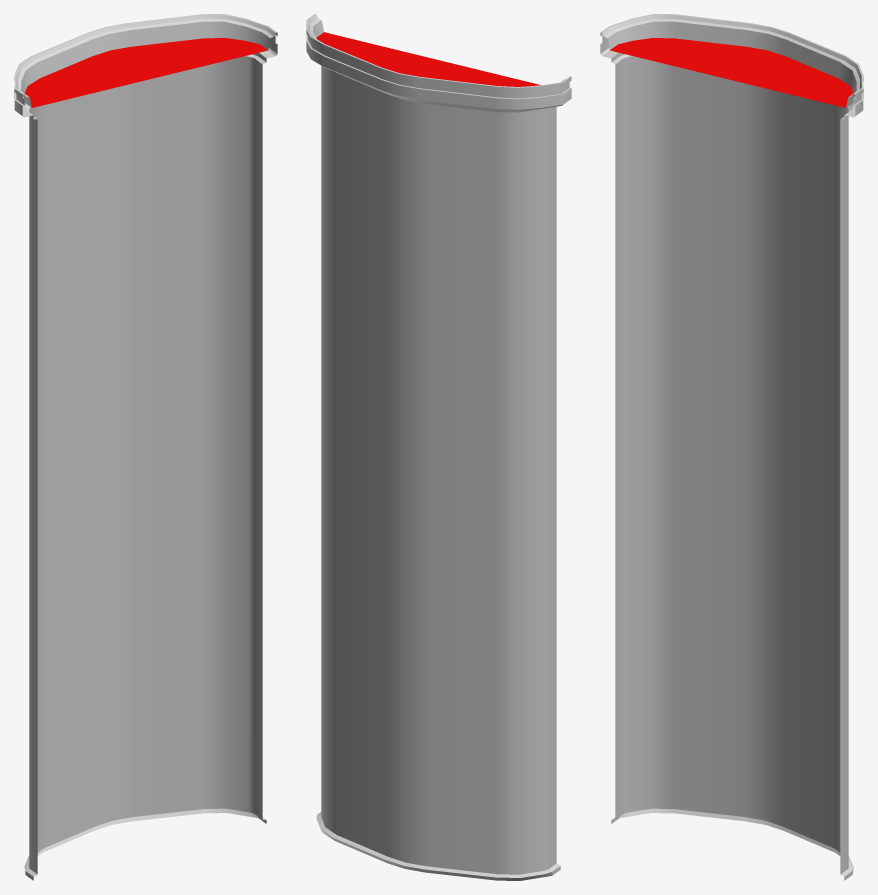
Rendered from stop_Screenless.fbx.
3 renders of one model, left to right at view 1: azimuth 30°, elevation 25°; view 2: azimuth 150°, elevation 25°; view 3: azimuth 330°, elevation 25°, orthographic.
Visible parts, largest first — view 1: floor_11; view 2: floor_11; view 3: floor_11.
Part boxes in pixels (left/top/right/bottom): floor_11: left=14, top=14, right=277, bottom=880; floor_11: left=306, top=14, right=571, bottom=880; floor_11: left=600, top=14, right=863, bottom=880.
Size of the model in its own units: 279 by 830 by 84.08.
